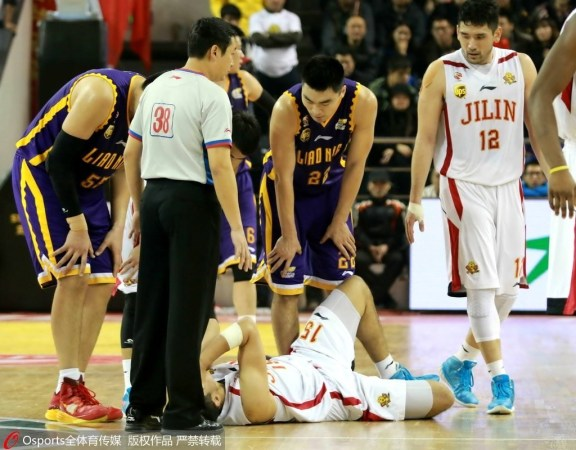10+: (1, 5, 576, 420), (188, 274, 466, 420)
